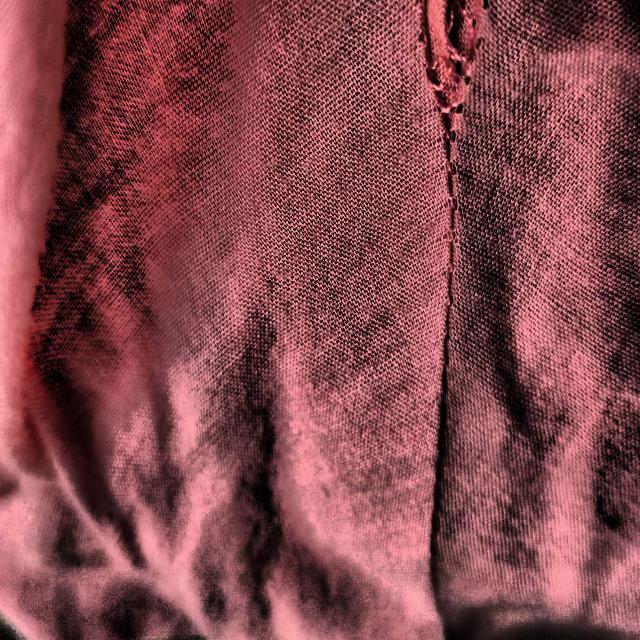Stitch: (414, 0, 493, 231)
